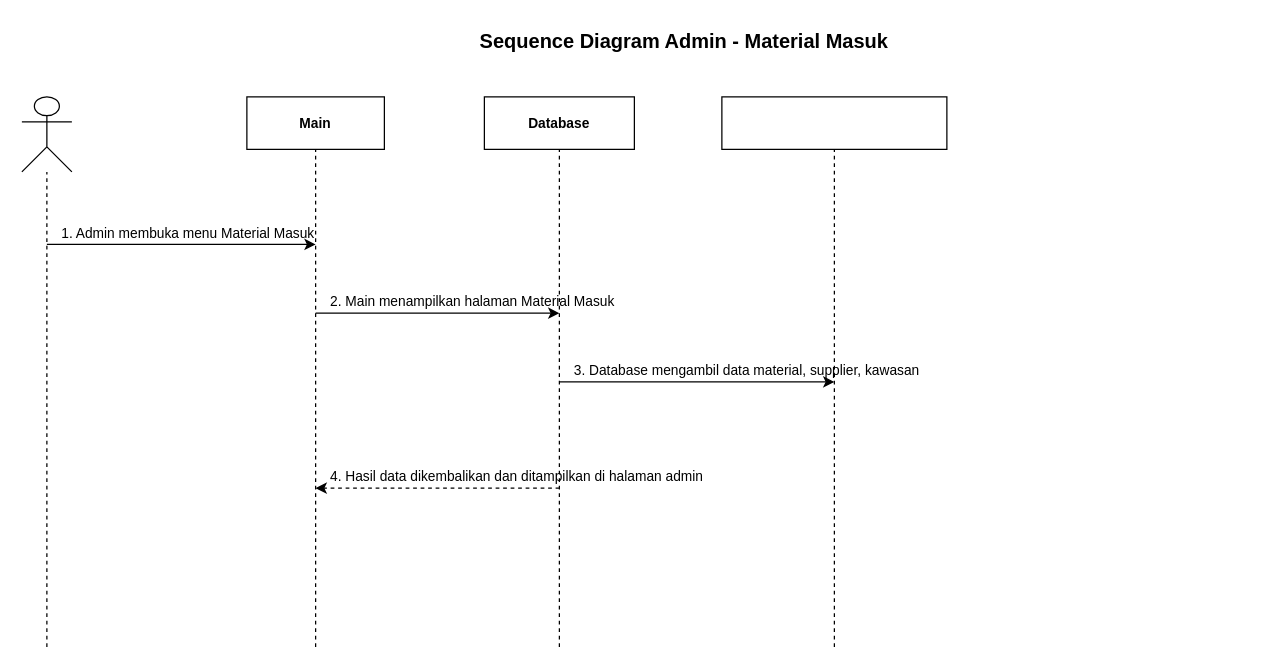
Some shapes in this 1269 by 670 pixel diagram are drawn without their labels. Each missing label, with the centre of its shape:
"Admin" goes at pixel 46 134.
"Tabel Material Masuk" goes at pixel 834 122.
